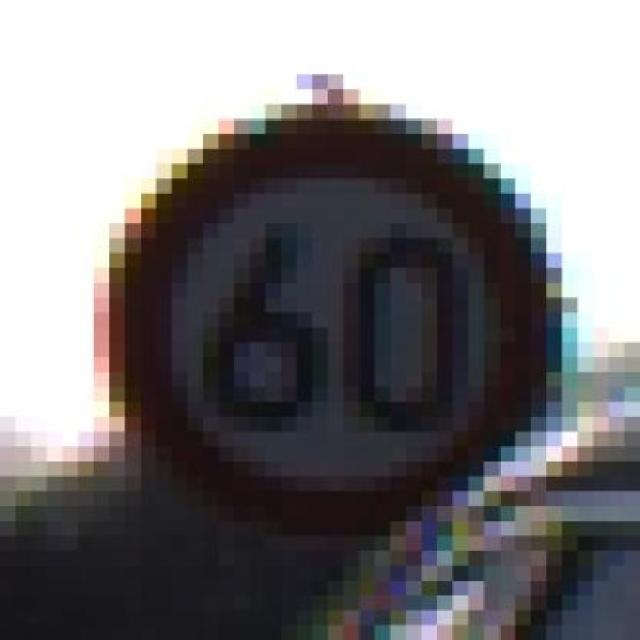forb_speed_over_60: (120, 111, 545, 528)
